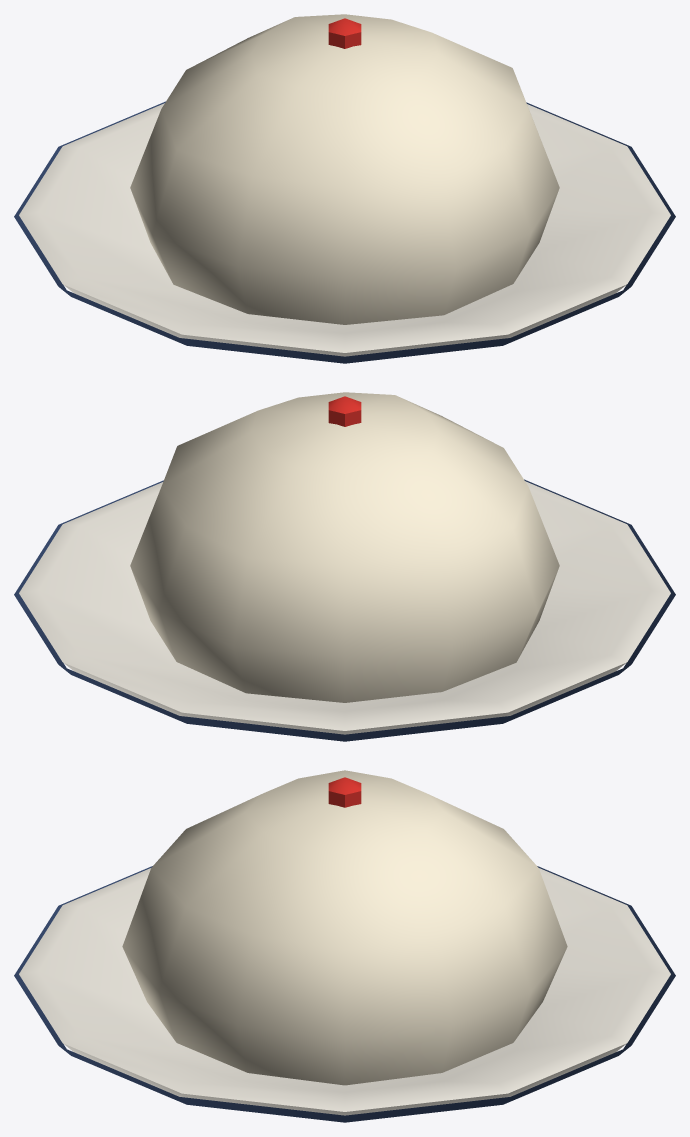
File: bao_bun.glb
3 views of the same model, one above another, from view 1: azimuth 30°, elevation 25°; view 2: azimuth 150°, elevation 25°; view 3: azimuth 270°, elevation 25° (orthographic).
Visible parts, largest first — view 1: bao_bun; view 2: bao_bun; view 3: bao_bun.
Boxes of the visible parts, x1,y1,x2,y2 form: bao_bun: (14,14,675,363); bao_bun: (14,392,675,741); bao_bun: (14,770,675,1122).
Size of the model in its own units: 0.1523 by 0.065 by 0.1523.
